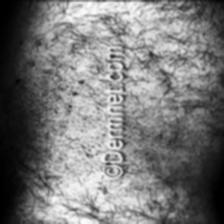Non-Cancerous Skin Condition: (14, 9, 102, 224), (125, 0, 209, 201)
